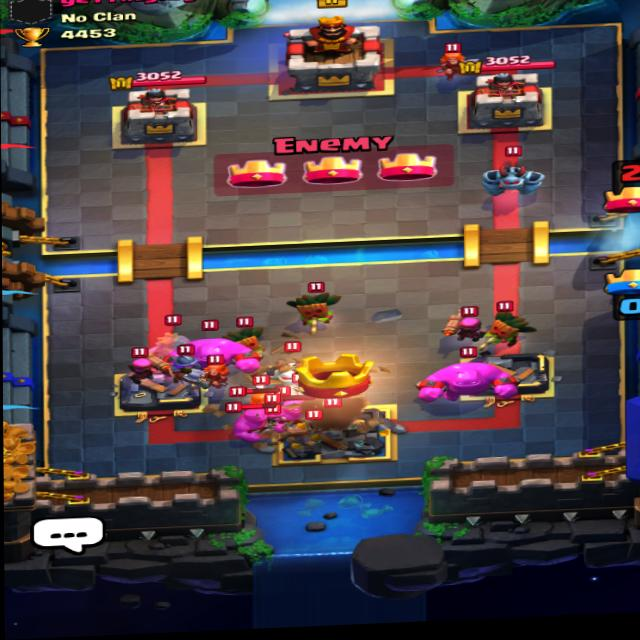dart-goblin: (281, 273, 344, 331), (484, 296, 531, 346), (216, 317, 267, 363)
electro-golem: (403, 344, 523, 409), (153, 324, 268, 378), (220, 397, 282, 439)
firecracker: (436, 301, 485, 341), (118, 345, 163, 386)
mega-minion: (480, 144, 553, 202), (256, 344, 329, 390)
musketeer: (166, 339, 215, 386)
royal-ghost: (146, 315, 204, 363)
valkyrie: (438, 38, 480, 79), (188, 351, 232, 389)
